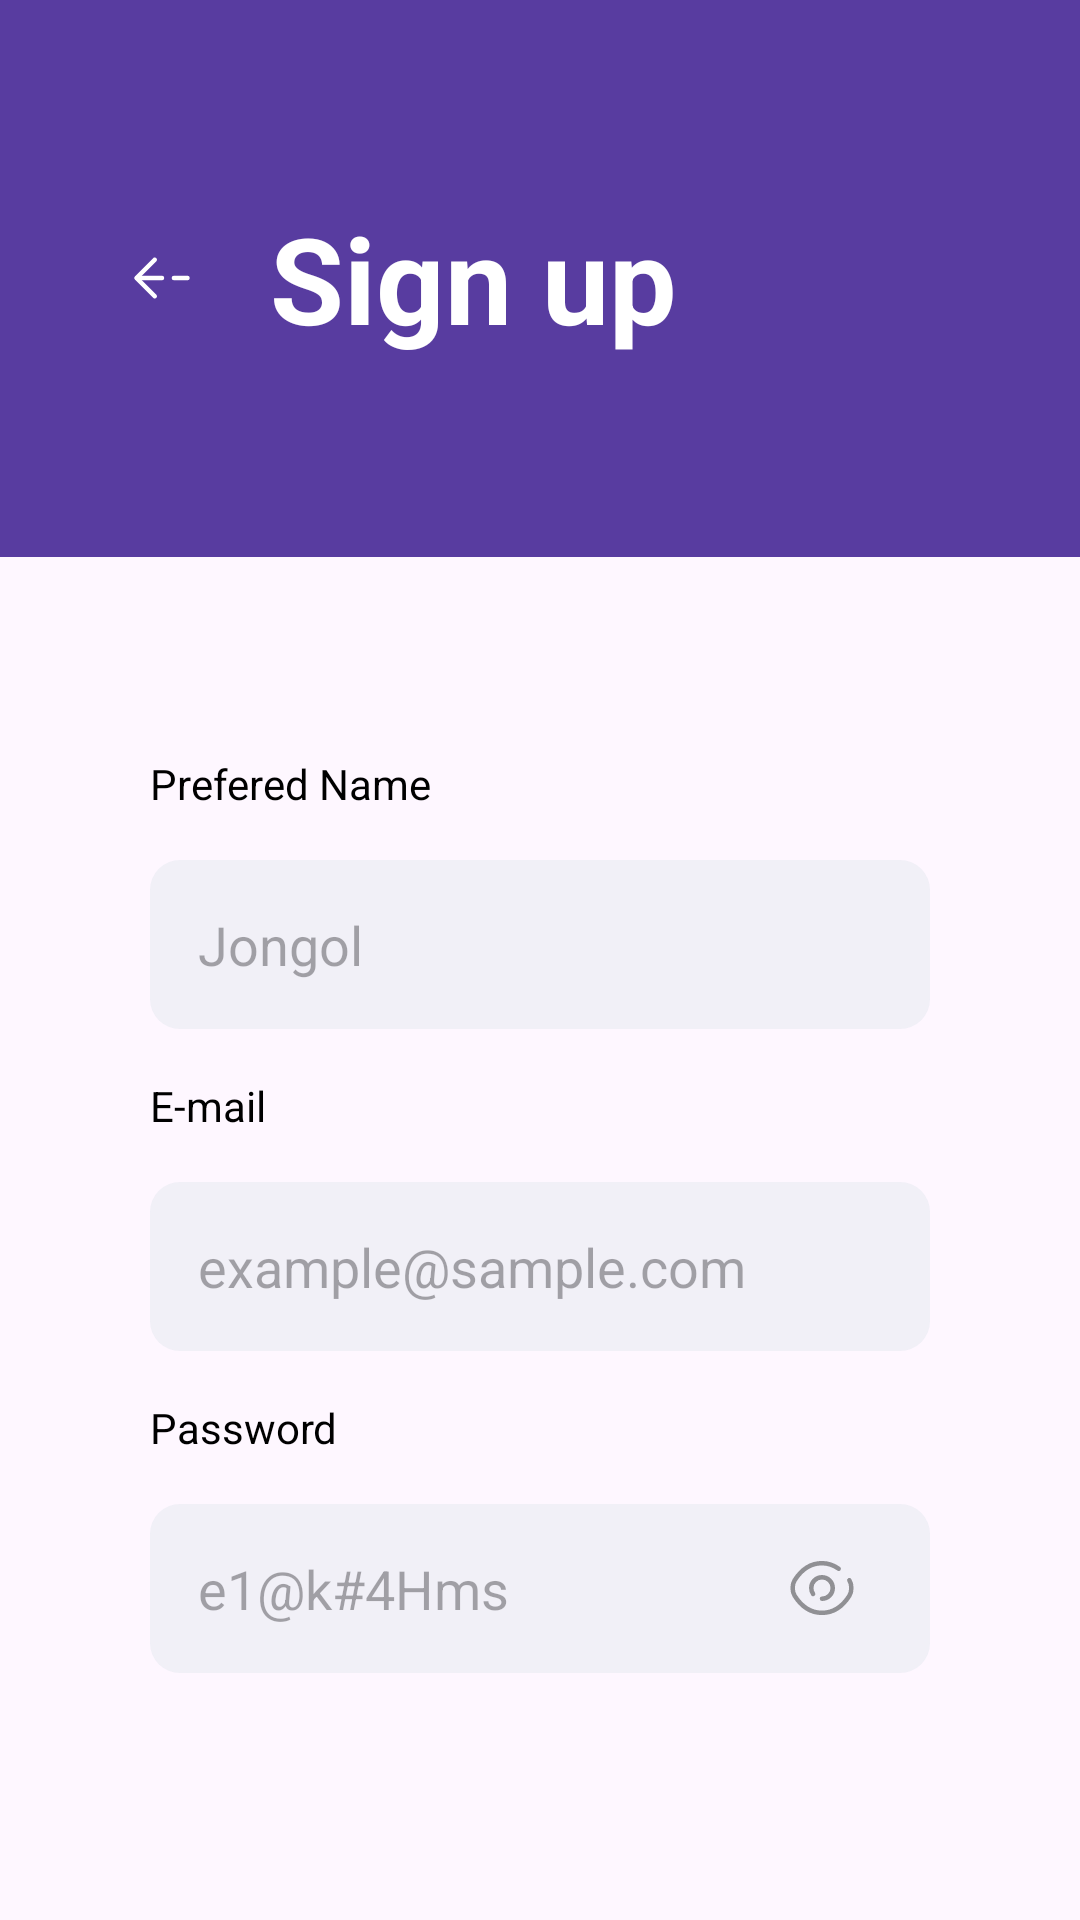

Named icons in this screenshot (1080*1920) and their centers, (x=x, y=y):
luna arrow back: (x=162, y=278)
pdhide luna: (x=822, y=1588)
